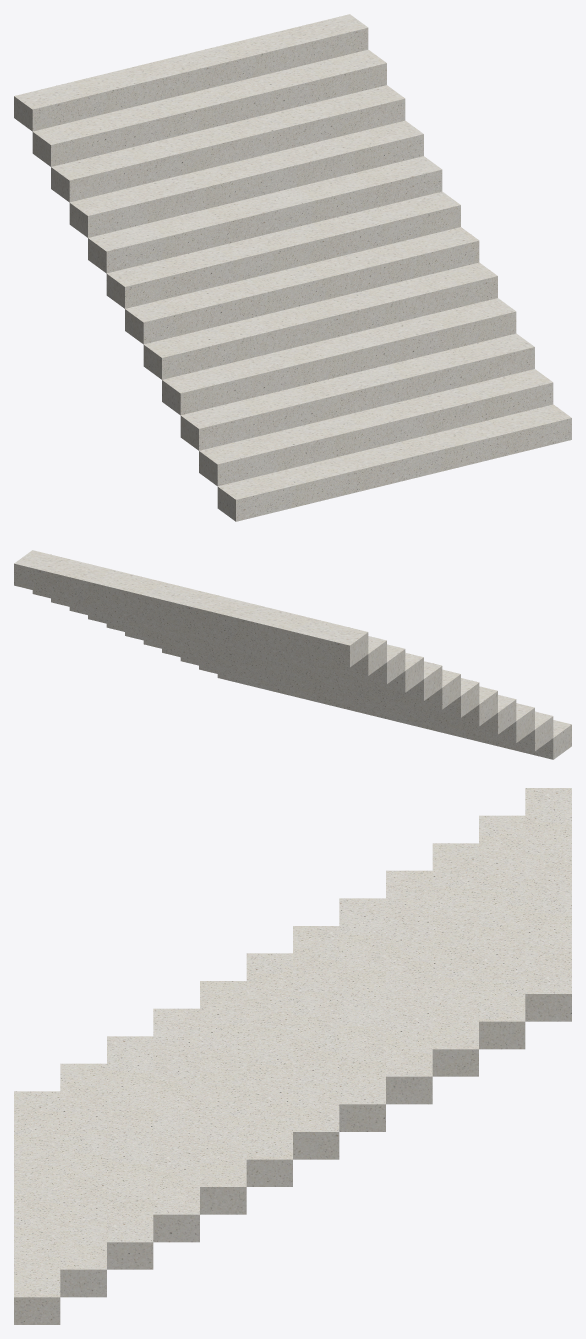
Rendered from Soupstairs006.glb.
3 views of the same model, one above another, from view 1: azimuth 30°, elevation 25°; view 2: azimuth 150°, elevation 25°; view 3: azimuth 270°, elevation 25° (orthographic). The views are drawn at different scales.
Visible parts, largest first — view 1: Soupstairs006_high_1; view 2: Soupstairs006_high_1; view 3: Soupstairs006_high_1.
Boxes of the visible parts, left/top/right/bottom form: Soupstairs006_high_1: left=14, top=14, right=571, bottom=521; Soupstairs006_high_1: left=14, top=550, right=571, bottom=759; Soupstairs006_high_1: left=14, top=788, right=571, bottom=1324.
Bounding box in the file's own units: 2.25 × 1.69 × 2.58.
1 material, 1 textured.
